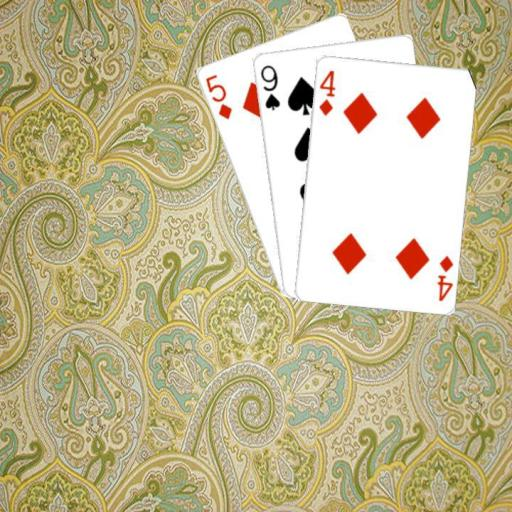4D: (315, 66, 336, 117), (433, 252, 454, 302)
5D: (202, 71, 233, 121)
9S: (257, 61, 281, 112)
